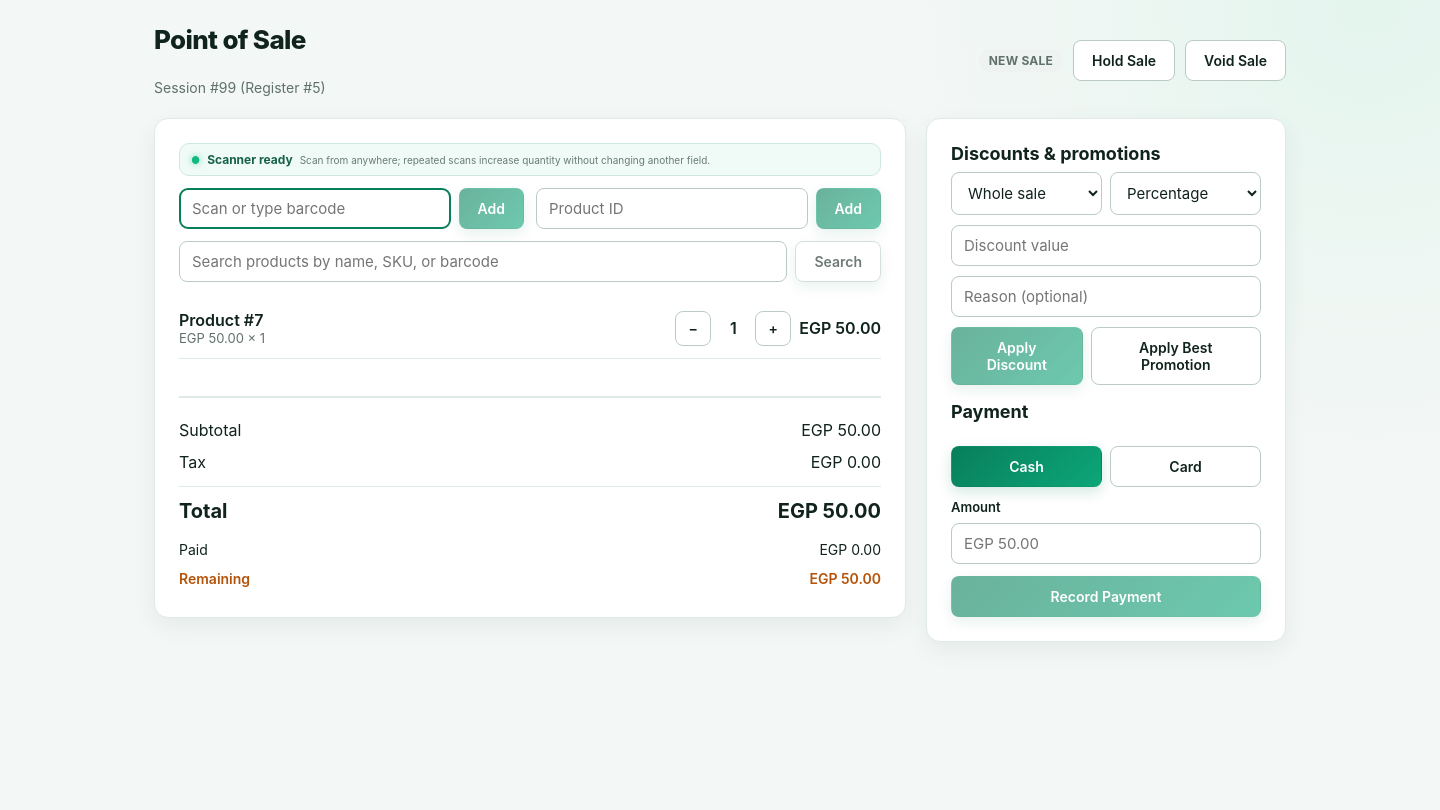
Test: PosPage › keeps a successful cash payment when the drawer is not configured
The width and height of the screenshot is (1440, 810).
In the number field with placeholder "EGP 50.00": (1106, 544) [951,523,1261,564], type "50"
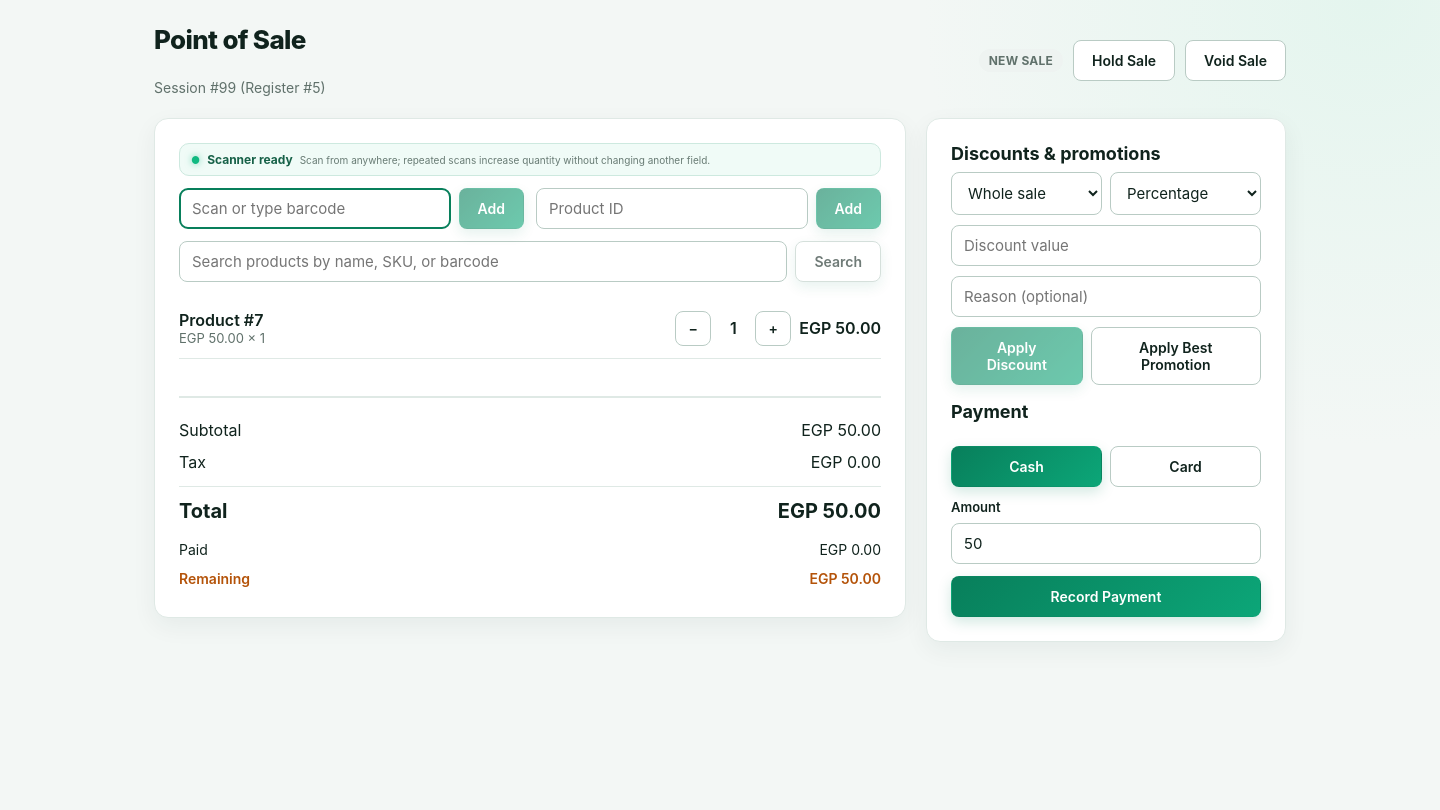
Click the button "Record Payment": (1106, 596) [951,576,1261,617]
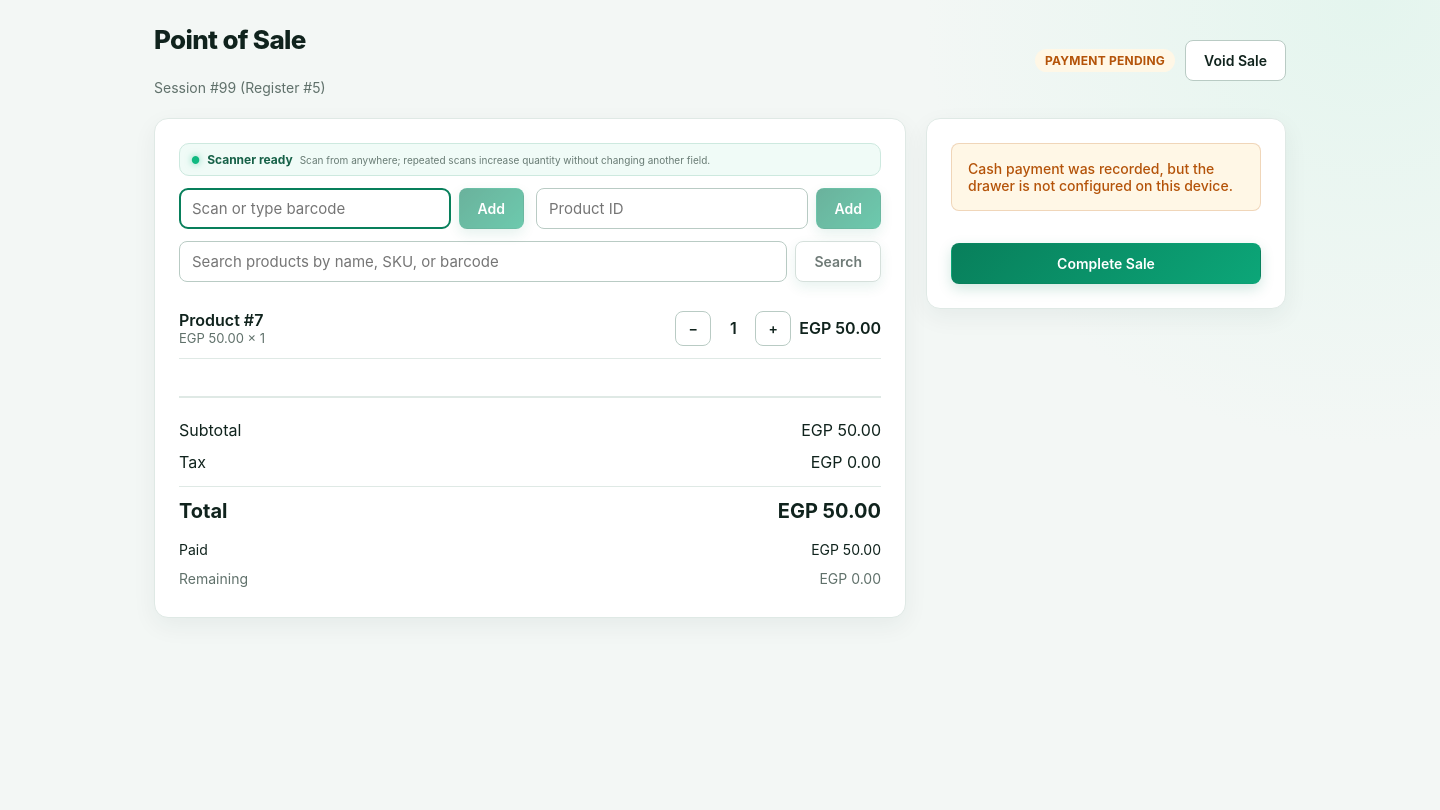
Expected: the text "Cash payment was recorded, but the drawer is not configured on this device." is shown, [951,143,1261,211]
